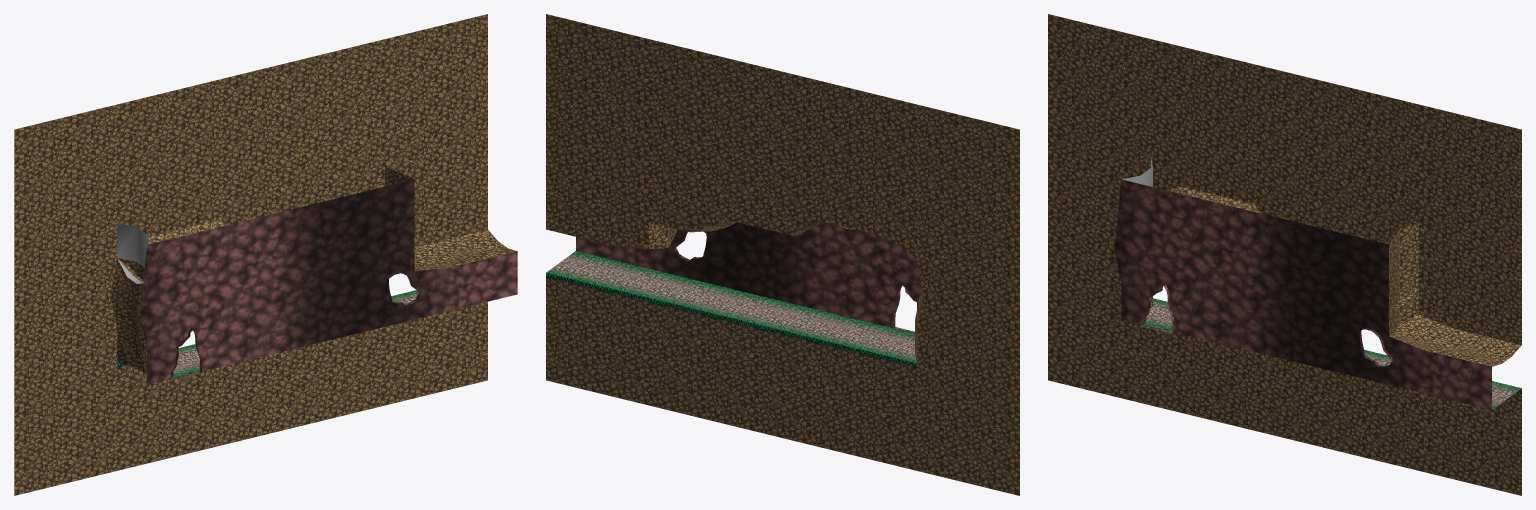
The model's file is Area2_Room15.fbx.
The picture shows the model from 3 angles, left to right: view 1: azimuth 30°, elevation 25°; view 2: azimuth 150°, elevation 25°; view 3: azimuth 330°, elevation 25°; orthographic projection.
Parts seen in each view (by area): view 1: pCube85; view 2: pCube85; view 3: pCube85.
Boxes of the visible parts, x1,y1,x2,y2 form: pCube85: [14, 14, 517, 495]; pCube85: [546, 14, 1019, 495]; pCube85: [1048, 14, 1521, 495].
Size of the model in its own units: 46 by 34 by 5.32.
